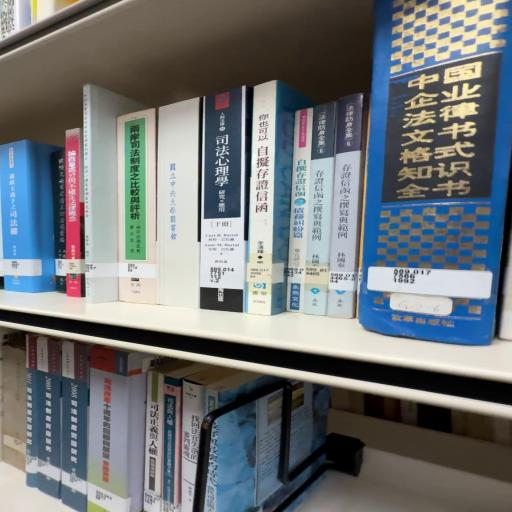backward: (160, 98, 207, 314)
book: (203, 89, 249, 316), (331, 94, 369, 316), (117, 110, 158, 263)
